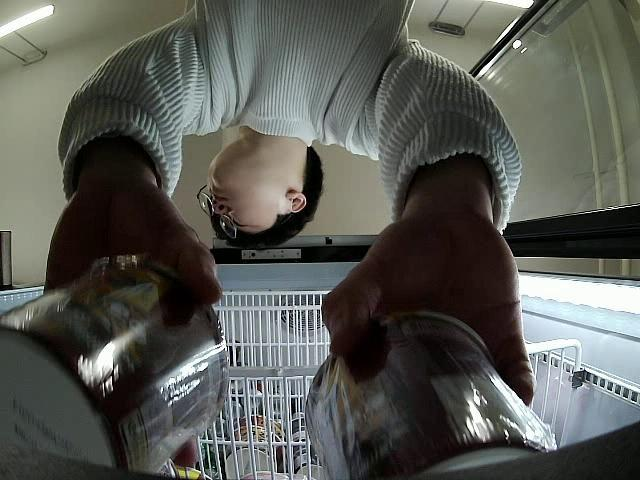06_nuguri_S: (0, 253, 228, 480), (304, 309, 557, 480)
